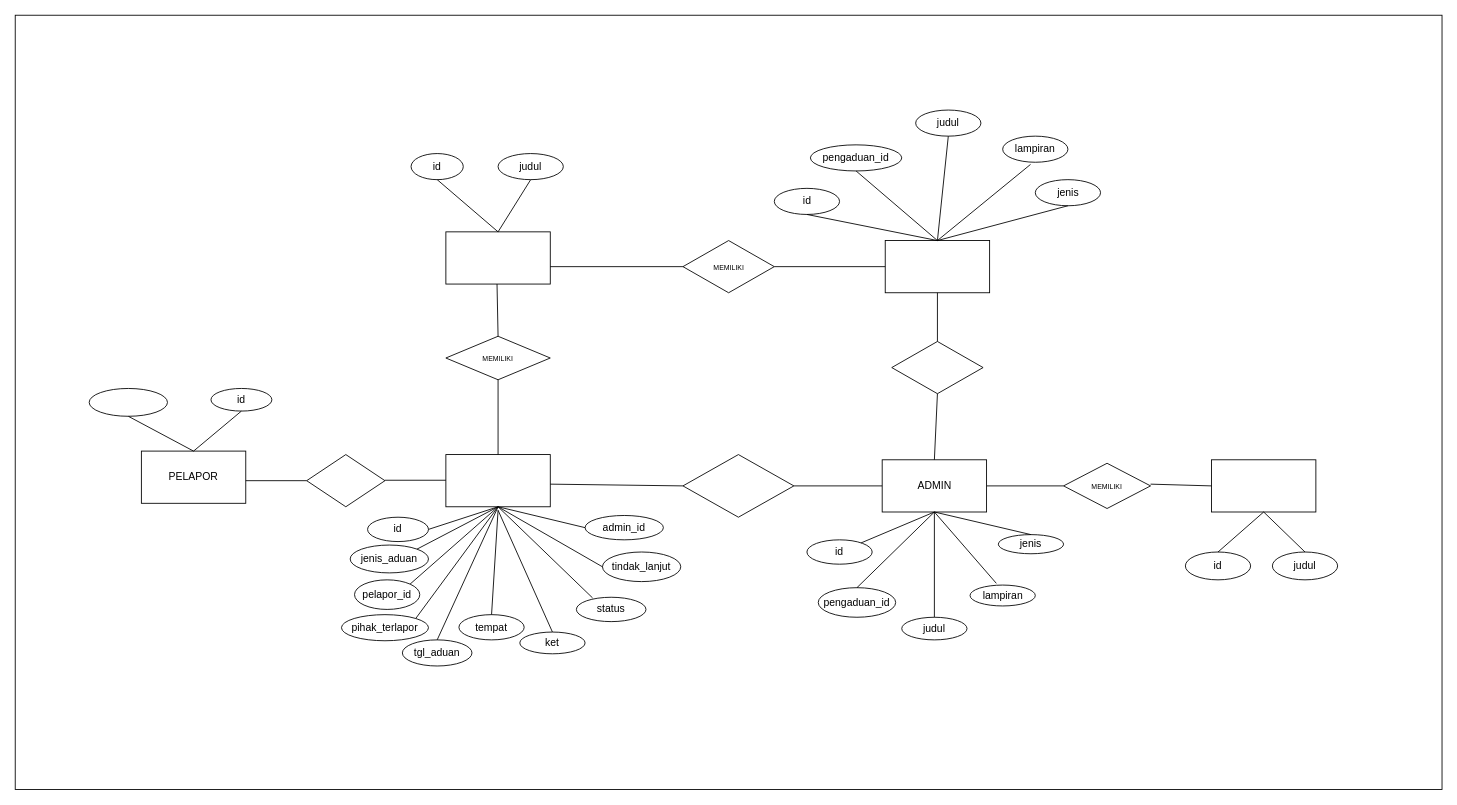
This 1457x805 diagram has some shape labels left out. Each missing label, with the centre of its shape:
BUKTI DUKUNG: point 937,266
JENIS ADUAN: point 497,257
MEMVERIFIKASI DAN TINDAK LANJUT: point 738,485
MENAMBAHKAN: point 937,367
MENGINPUTKAN: point 345,480
nama: point 127,402
PENGADUAN: point 497,480
ROLE: point 1263,485
